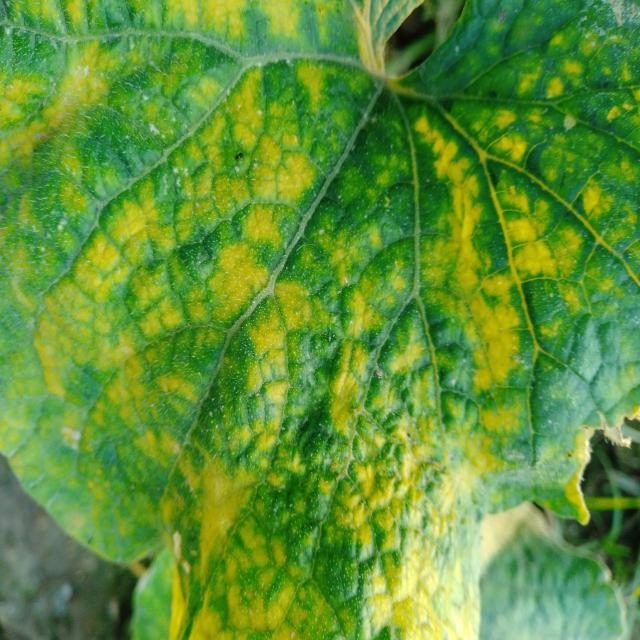cucumber_downy: (4, 0, 640, 623)
